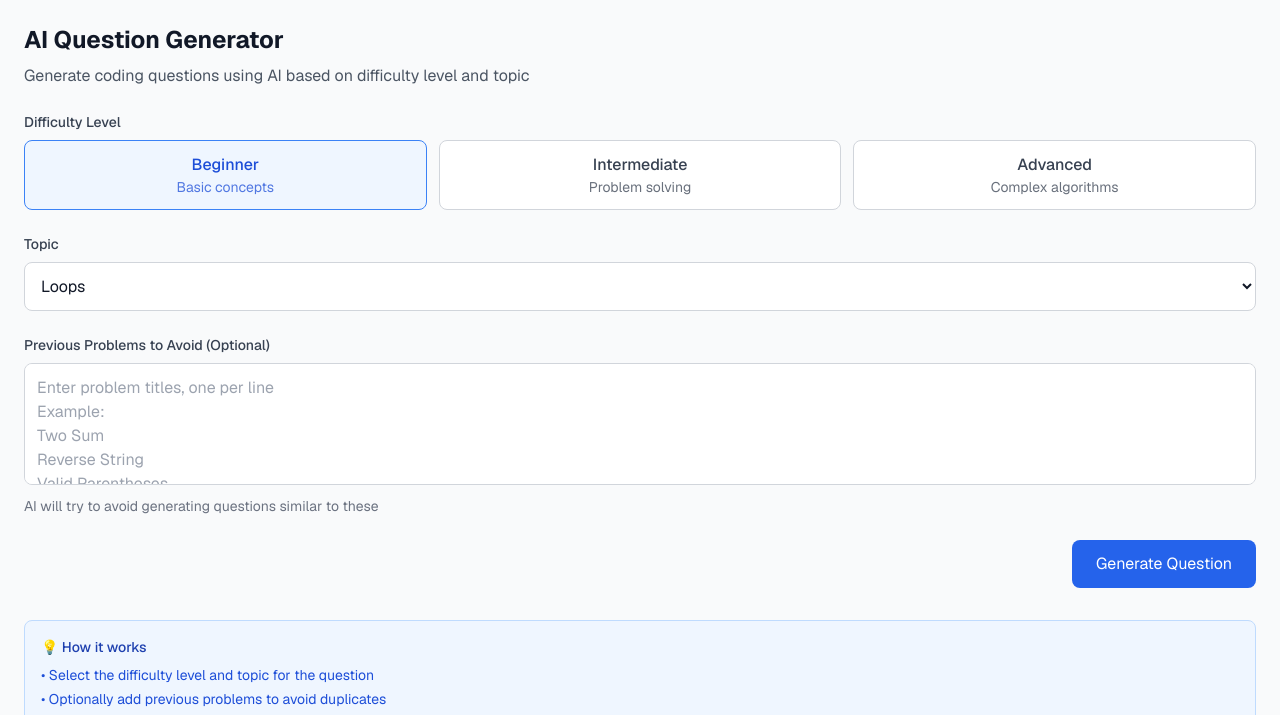
QuestionGenerator › updates topic when difficulty changes
The width and height of the screenshot is (1280, 715).
Expected: the dropdown showing "Loops" is shown, [24, 262, 1256, 311]
Note: Switch to Advanced
What coordinates should you click on to do the following:
click the text "Advanced"
I would click on:
 (1055, 164)
Its box is [1017, 154, 1092, 175].
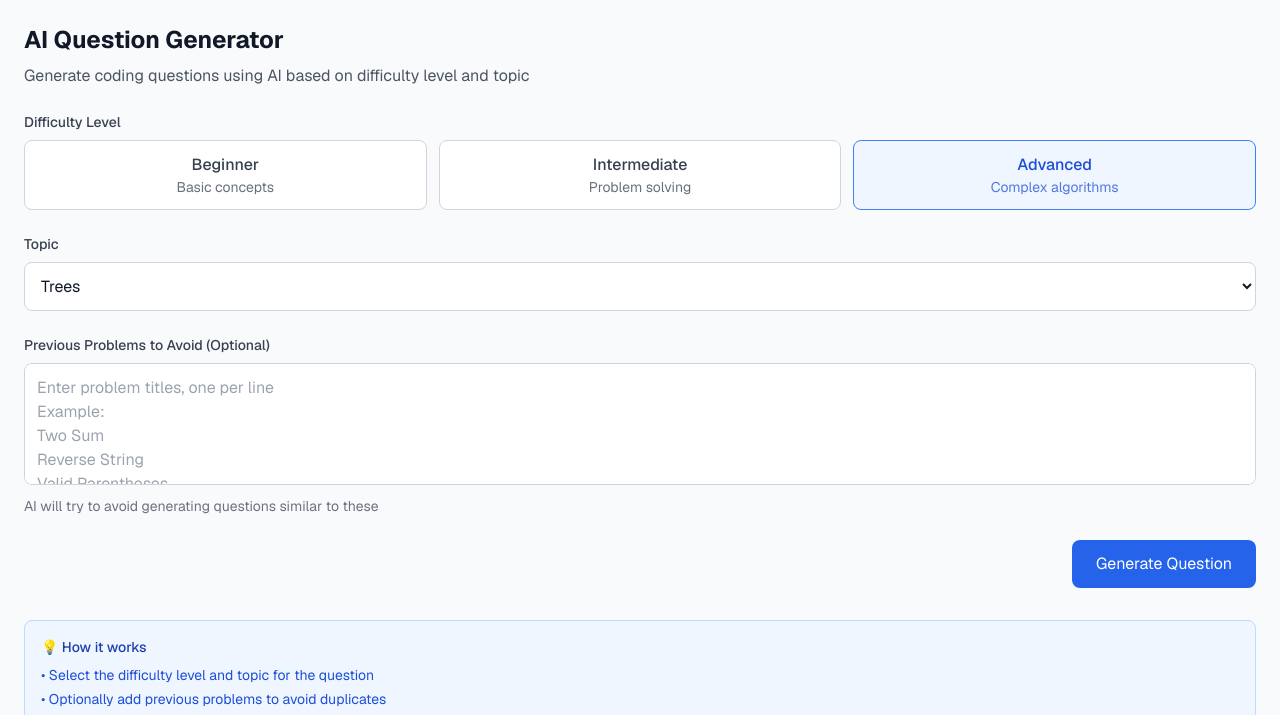
Now the dropdown showing "Trees" is shown, box [24, 262, 1256, 311]
